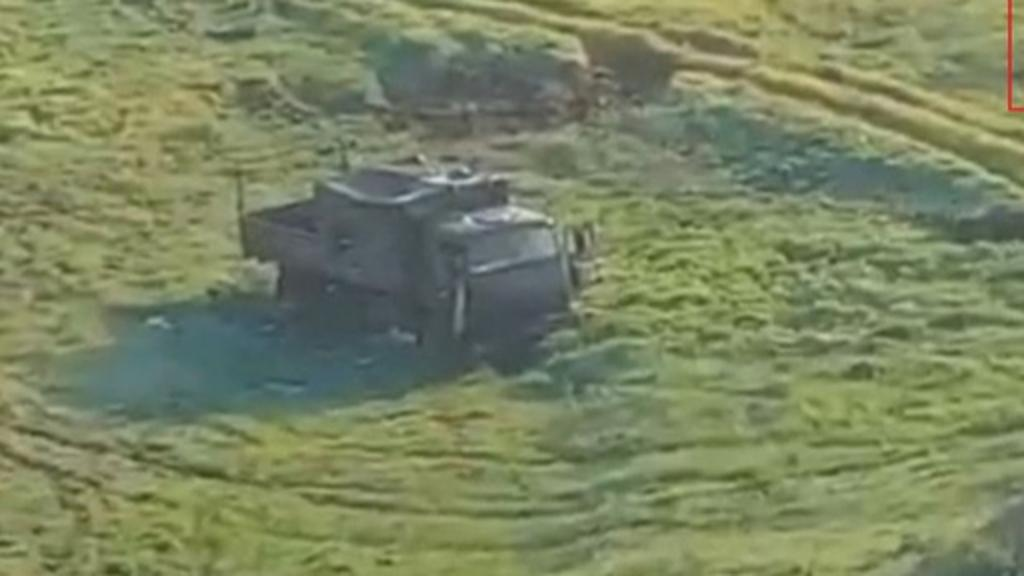TRUCK: (218, 138, 586, 362)
